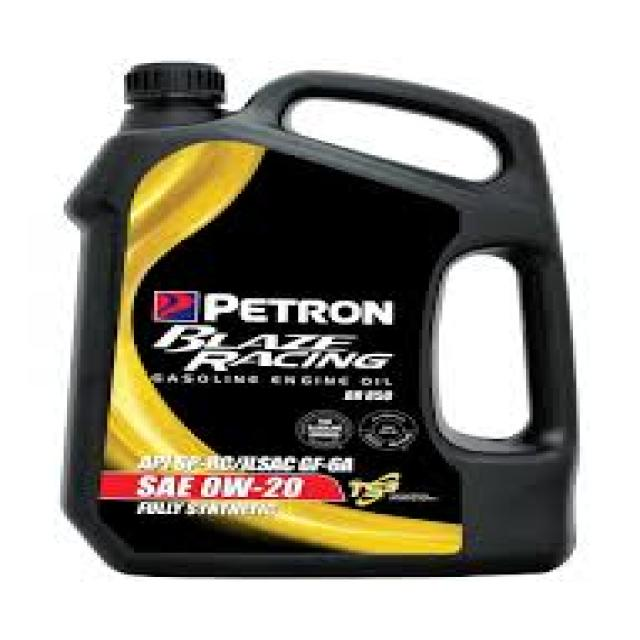motor_oil: (61, 60, 586, 582)
